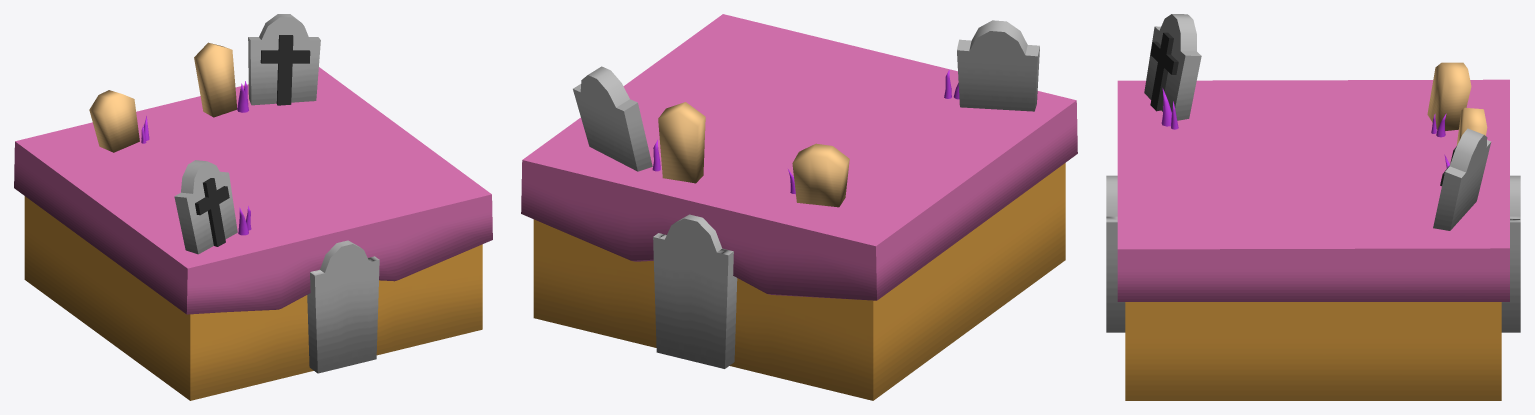
Rendered from Graveyard_Platform.fbx.
3 views of the same model, side by side, from view 1: azimuth 30°, elevation 25°; view 2: azimuth 150°, elevation 25°; view 3: azimuth 270°, elevation 25° (orthographic). The views are drawn at different scales.
Parts seen in each view (by area): view 1: GraveyardPlatform; view 2: GraveyardPlatform; view 3: GraveyardPlatform.
Boxes of the visible parts, x1,y1,x2,y2 form: GraveyardPlatform: [14, 14, 492, 400]; GraveyardPlatform: [521, 14, 1077, 400]; GraveyardPlatform: [1106, 14, 1520, 400].
Bounding box in the file's own units: 1.08 × 0.7221 × 1.11.
